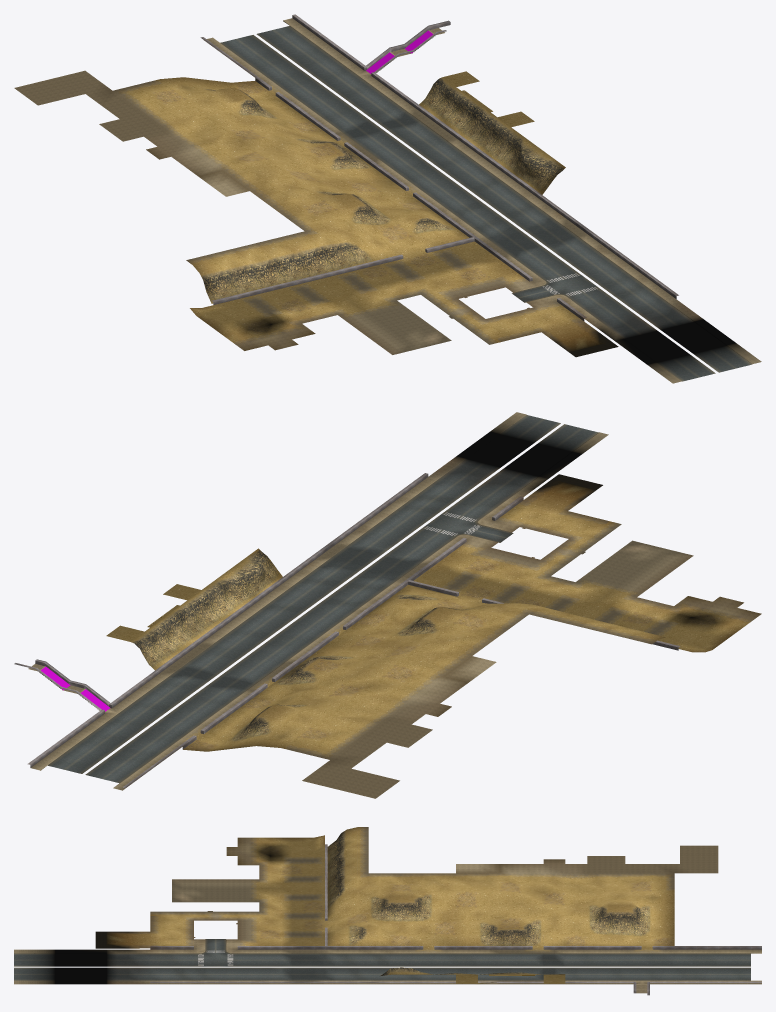
Rendered from M10_Zone1_Surface.glb.
3 renders of one model, top to bottom at view 1: azimuth 30°, elevation 25°; view 2: azimuth 150°, elevation 25°; view 3: azimuth 270°, elevation 25°, orthographic. The views are drawn at different scales.
Visible parts, largest first — view 1: M10_ZONE1_SURFACE139, M10_ZONE1_SURFACE137, M10_ZONE1_SURFACE136, M10_ZONE1_SURFACE141, M10_ZONE1_SURFACE140, M10_ZONE1_SURFACE192, M10_ZONE1_SURFACE138, M10_ZONE1_SURFACE252, M10_ZONE1_SURFACE214, M10_ZONE1_SURFACE142, M10_ZONE1_SURFACE239, M10_ZONE1_SURFACE279 (+3 smaller); view 2: M10_ZONE1_SURFACE203, M10_ZONE1_SURFACE226, M10_ZONE1_SURFACE214, M10_ZONE1_SURFACE265, M10_ZONE1_SURFACE239, M10_ZONE1_SURFACE252, M10_ZONE1_SURFACE279; view 3: M10_ZONE1_SURFACE312, M10_ZONE1_SURFACE323, M10_ZONE1_SURFACE185, M10_ZONE1_SURFACE196, M10_ZONE1_SURFACE218, M10_ZONE1_SURFACE300, M10_ZONE1_SURFACE287, M10_ZONE1_SURFACE260, M10_ZONE1_SURFACE247, M10_ZONE1_SURFACE337, M10_ZONE1_SURFACE338, M10_ZONE1_SURFACE273 (+19 smaller).
Part boxes in pixels (x1,y1,x2,y2): M10_ZONE1_SURFACE139: [274, 258, 314, 289]; M10_ZONE1_SURFACE137: [227, 269, 267, 301]; M10_ZONE1_SURFACE136: [203, 275, 236, 307]; M10_ZONE1_SURFACE141: [322, 246, 361, 278]; M10_ZONE1_SURFACE140: [299, 251, 332, 283]; M10_ZONE1_SURFACE192: [515, 149, 551, 184]; M10_ZONE1_SURFACE138: [251, 263, 284, 295]; M10_ZONE1_SURFACE252: [446, 97, 483, 134]; M10_ZONE1_SURFACE214: [488, 127, 524, 164]; M10_ZONE1_SURFACE142: [345, 242, 379, 270]; M10_ZONE1_SURFACE239: [460, 107, 497, 144]; M10_ZONE1_SURFACE279: [419, 77, 455, 114]; M10_ZONE1_SURFACE203: [216, 567, 259, 607]; M10_ZONE1_SURFACE226: [187, 590, 225, 628]; M10_ZONE1_SURFACE214: [202, 577, 239, 618]; M10_ZONE1_SURFACE265: [145, 621, 183, 659]; M10_ZONE1_SURFACE239: [173, 600, 211, 638]; M10_ZONE1_SURFACE252: [159, 611, 197, 649]; M10_ZONE1_SURFACE279: [131, 631, 168, 670]; M10_ZONE1_SURFACE312: [598, 910, 630, 937]; M10_ZONE1_SURFACE323: [620, 910, 652, 938]; M10_ZONE1_SURFACE185: [380, 901, 411, 923]; M10_ZONE1_SURFACE196: [402, 901, 433, 923]; M10_ZONE1_SURFACE218: [445, 891, 477, 908]; M10_ZONE1_SURFACE300: [576, 912, 608, 936]; M10_ZONE1_SURFACE287: [554, 916, 586, 935]; M10_ZONE1_SURFACE260: [511, 928, 542, 948]; M10_ZONE1_SURFACE247: [489, 928, 520, 945]; M10_ZONE1_SURFACE337: [642, 904, 673, 921]; M10_ZONE1_SURFACE338: [642, 920, 674, 938]; M10_ZONE1_SURFACE273: [533, 916, 564, 935].
Size of the model in its own units: 156 by 9.55 by 274.
21 materials, 20 textured.
